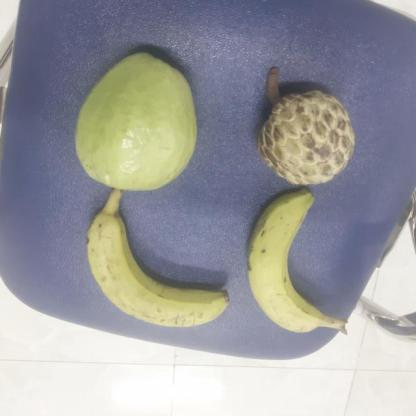annona: (256, 88, 358, 188)
banana: (84, 199, 236, 332), (243, 189, 339, 338)
guava: (69, 50, 201, 195)
